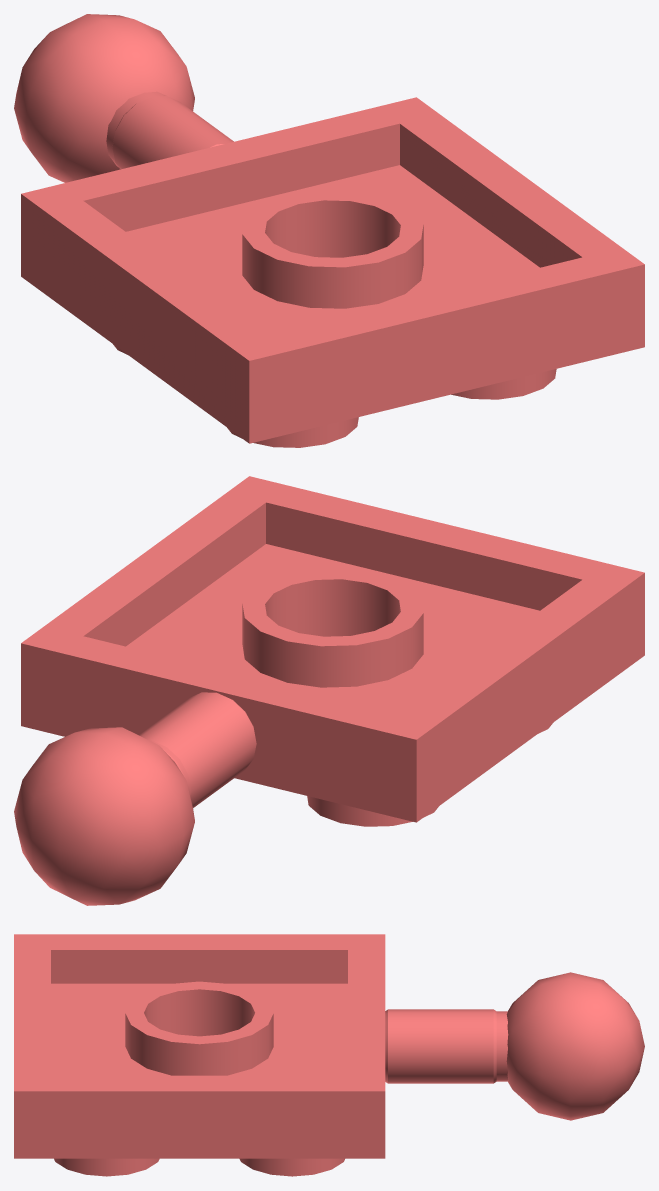
The picture shows the model from 3 angles, top to bottom: view 1: azimuth 30°, elevation 25°; view 2: azimuth 150°, elevation 25°; view 3: azimuth 270°, elevation 25°; orthographic projection. The views are drawn at different scales.
Parts seen in each view (by area): view 1: LDrawPart; view 2: LDrawPart; view 3: LDrawPart.
Part boxes in pixels (<box>): LDrawPart: <box>14,14,644,447</box>; LDrawPart: <box>14,476,644,905</box>; LDrawPart: <box>14,934,644,1176</box>.
Bounding box in the file's own units: 0.28 × 0.112 × 0.476.
